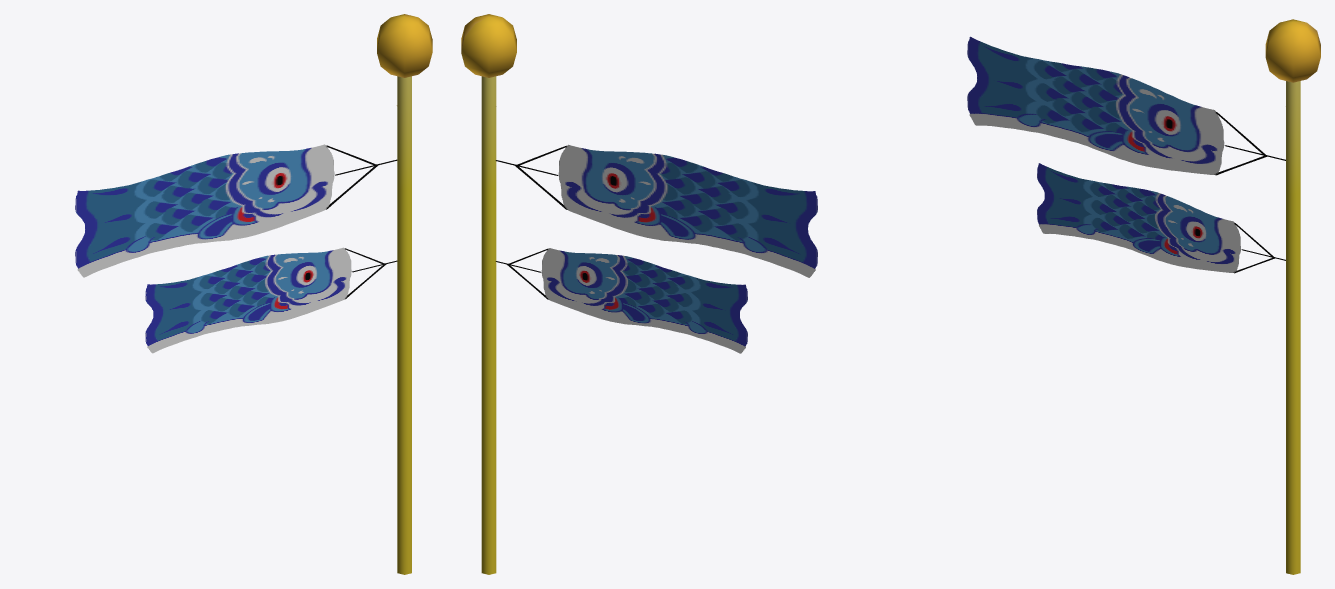
File: Carp.fbx
3 views of the same model, side by side, from view 1: azimuth 30°, elevation 25°; view 2: azimuth 150°, elevation 25°; view 3: azimuth 330°, elevation 25° (orthographic).
Parts seen in each view (by area): view 1: polySurface5; view 2: polySurface5; view 3: polySurface5.
Part boxes in pixels (x1=…): polySurface5: x1=75, y1=14, x2=432, y2=574; polySurface5: x1=461, y1=14, x2=817, y2=574; polySurface5: x1=967, y1=19, x2=1320, y2=574.
Size of the model in its own units: 15 by 19.03 by 1.73.
Materials: 1 (1 with a texture image).
